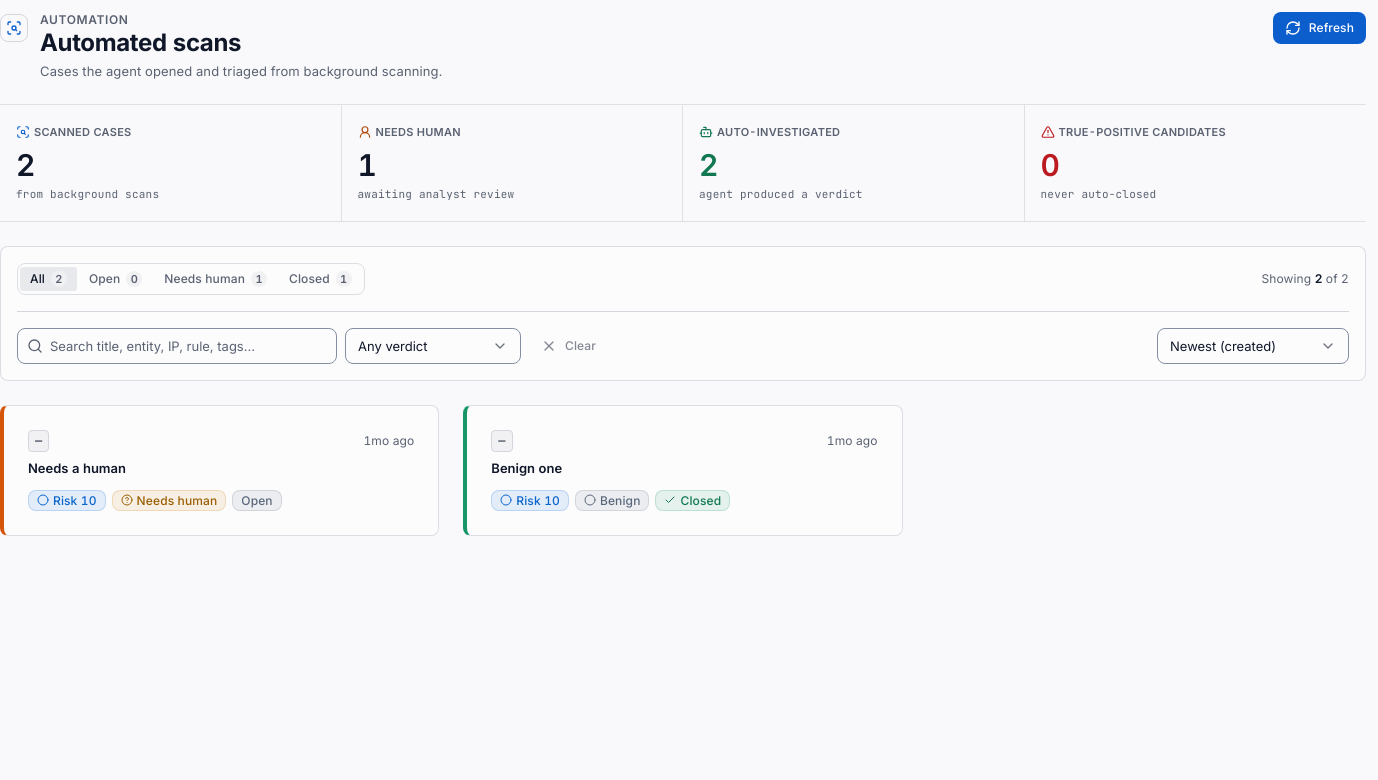
Test case: Scans — Round-6 sweep › makes the "Needs human" tile agree with the rows shown after clicking it
Expected: the radio button labelled "Needs human 1" is shown, x1=154 y1=267 x2=277 y2=291
// Clicking the tile filters to needs-human and the case is still shown (no drop).
Click the button with test id "kpi-needs-human": (418, 132) x1=342 y1=105 x2=683 y2=221
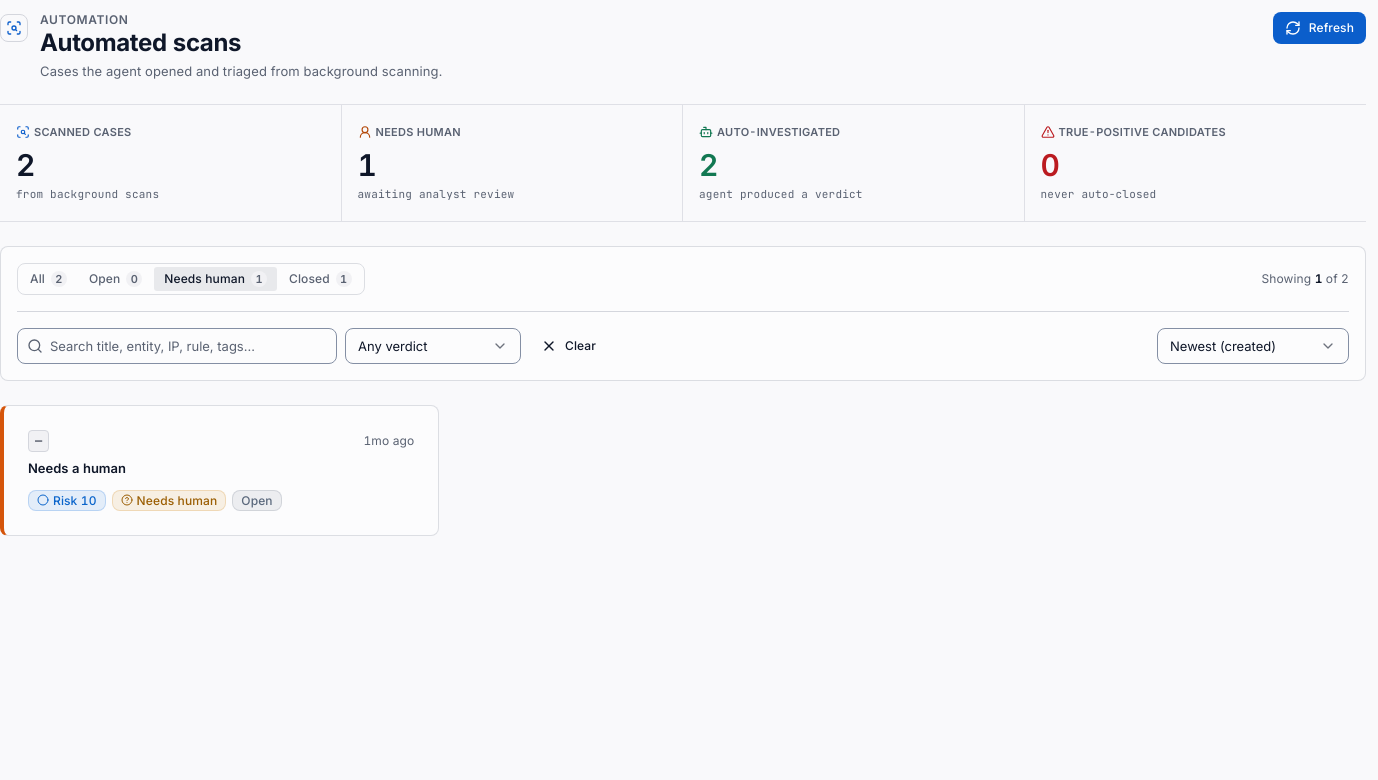
Expected: the heading "Needs a human" is shown, x1=28 y1=460 x2=126 y2=476
Now the button "Benign one" is gone
